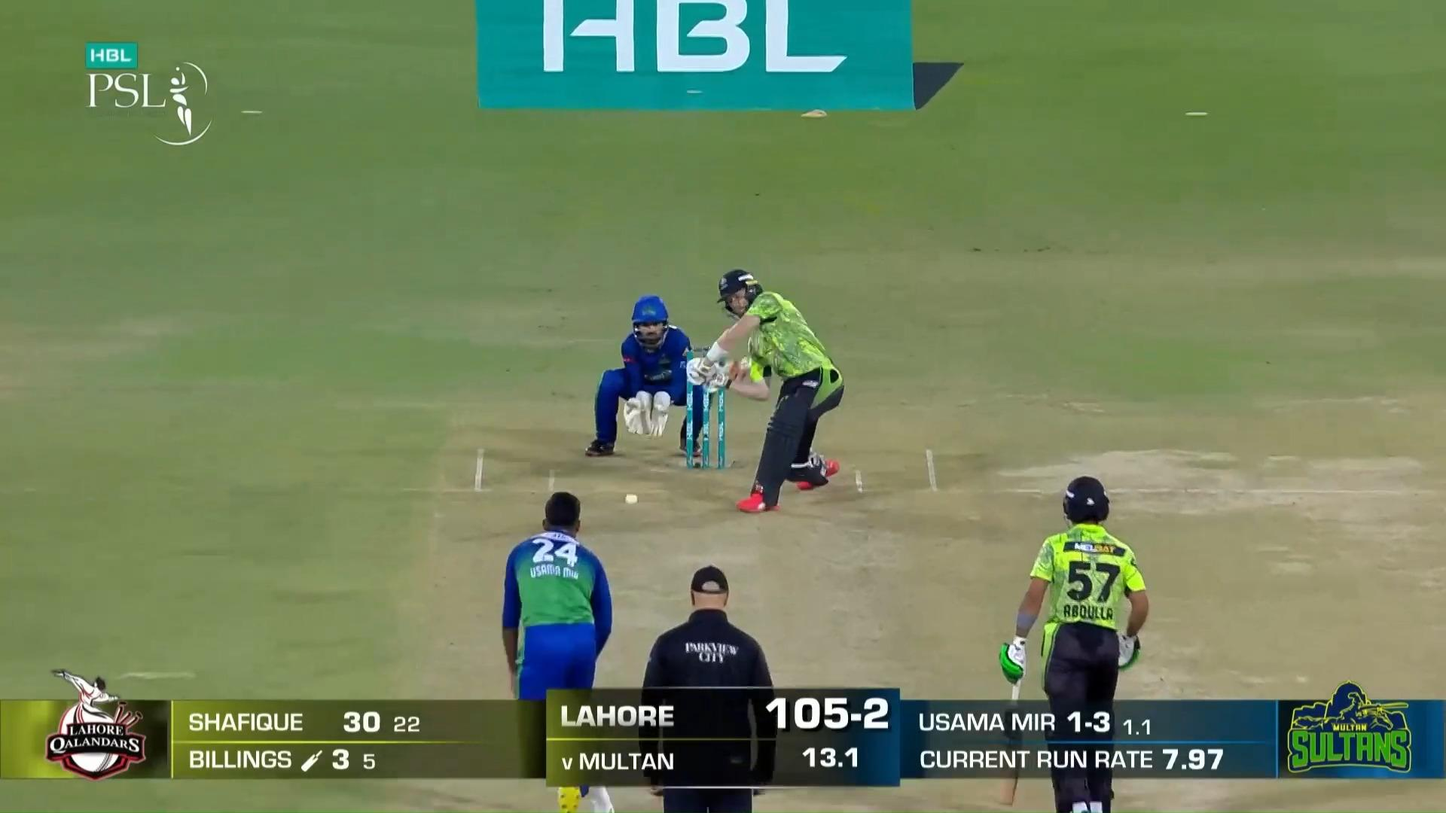batsman: (687, 269, 844, 513)
